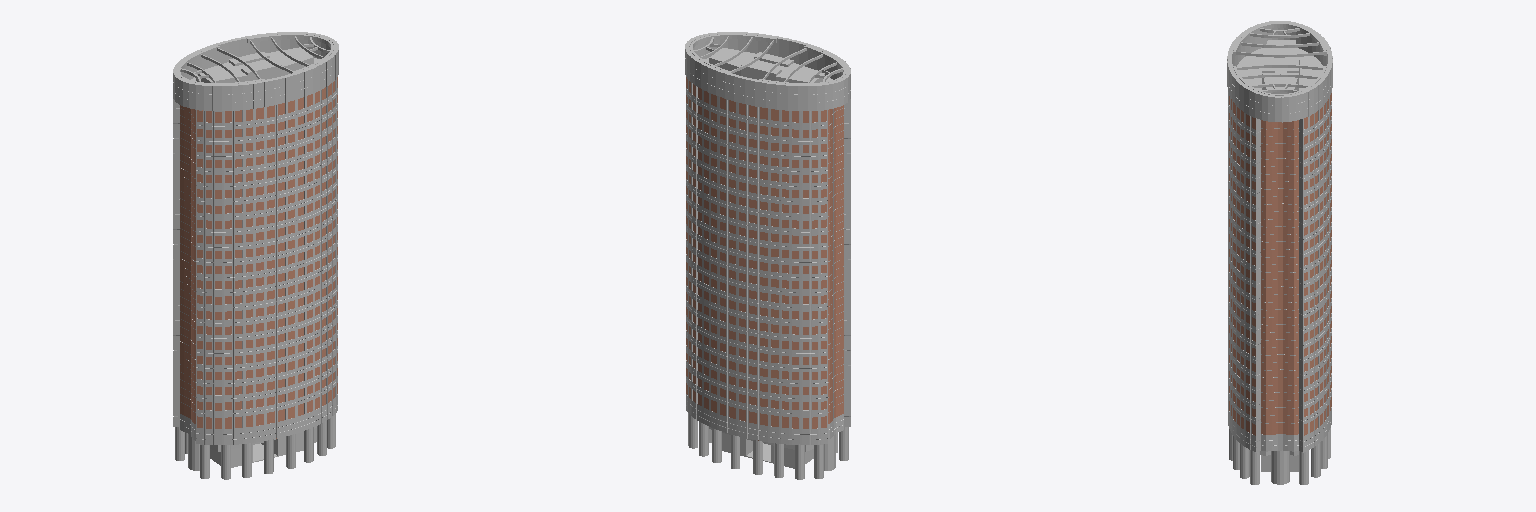
File: building-with-pillars.obj
3 views of the same model, side by side, from view 1: azimuth 30°, elevation 25°; view 2: azimuth 150°, elevation 25°; view 3: azimuth 270°, elevation 25° (orthographic).
Parts seen in each view (by area): view 1: SMBC_, SMBC_.002, SMBC_.001, SMBC_.003, SMBC_.004; view 2: SMBC_, SMBC_.002, SMBC_.001, SMBC_.003, SMBC_.004; view 3: SMBC_, SMBC_.001, SMBC_.002, SMBC_.003, SMBC_.004.
Boxes of the visible parts, box(x1,y1,x2,y2) form: SMBC_: box(173, 77, 337, 444); SMBC_.002: box(173, 32, 338, 110); SMBC_.001: box(180, 105, 316, 467); SMBC_.003: box(175, 414, 335, 479); SMBC_.004: box(178, 34, 333, 83); SMBC_: box(686, 77, 850, 444); SMBC_.002: box(685, 32, 850, 110); SMBC_.001: box(709, 105, 843, 468); SMBC_.003: box(688, 413, 848, 479); SMBC_.004: box(690, 34, 845, 83); SMBC_: box(1228, 92, 1331, 452); SMBC_.001: box(1260, 120, 1298, 471); SMBC_.002: box(1227, 21, 1332, 122); SMBC_.003: box(1229, 428, 1330, 484); SMBC_.004: box(1233, 23, 1326, 95).
Bounding box in the file's own units: 1.72 × 4.09 × 0.9987.